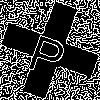P: (25, 25, 72, 79)
